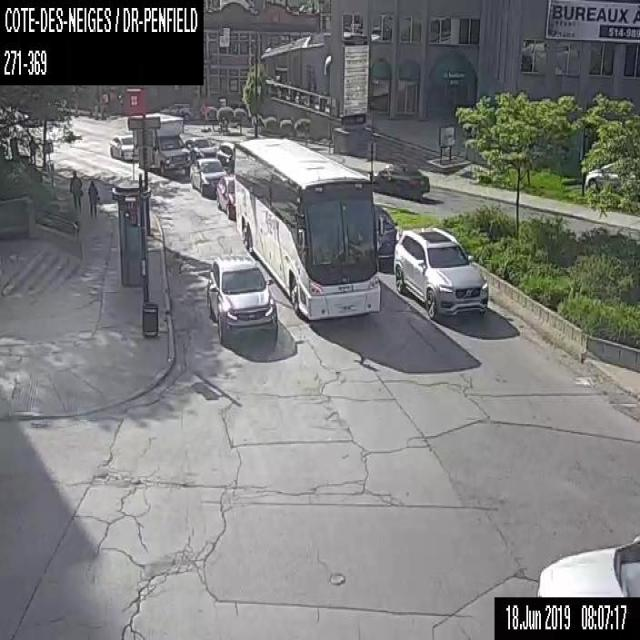bus: (235, 136, 380, 320)
pedestrian: (86, 177, 101, 220), (68, 168, 82, 211)
vehicle: (393, 225, 487, 320), (536, 529, 639, 596), (206, 254, 278, 346), (131, 111, 190, 173), (584, 158, 639, 199), (373, 162, 429, 200), (189, 156, 226, 195), (372, 204, 397, 260), (215, 174, 236, 219), (109, 132, 138, 160), (186, 135, 215, 160), (160, 102, 190, 122), (216, 140, 234, 166)
